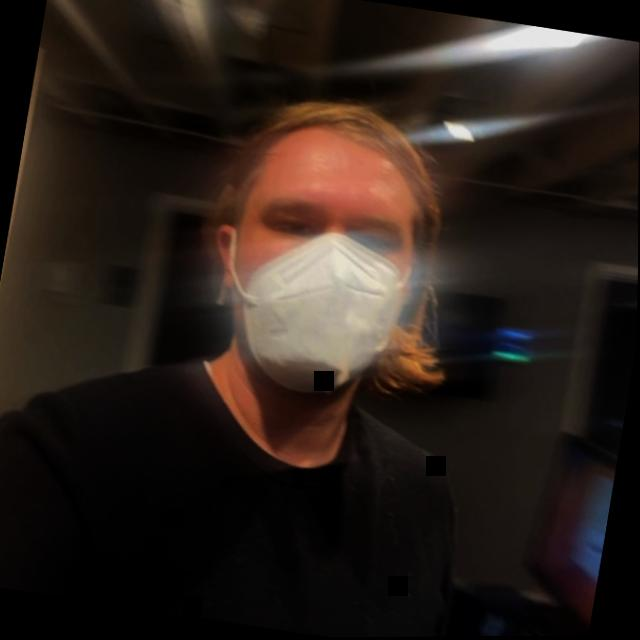Mask: (182, 69, 492, 428)
